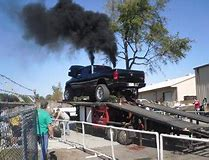smoke: (18, 1, 117, 66)
